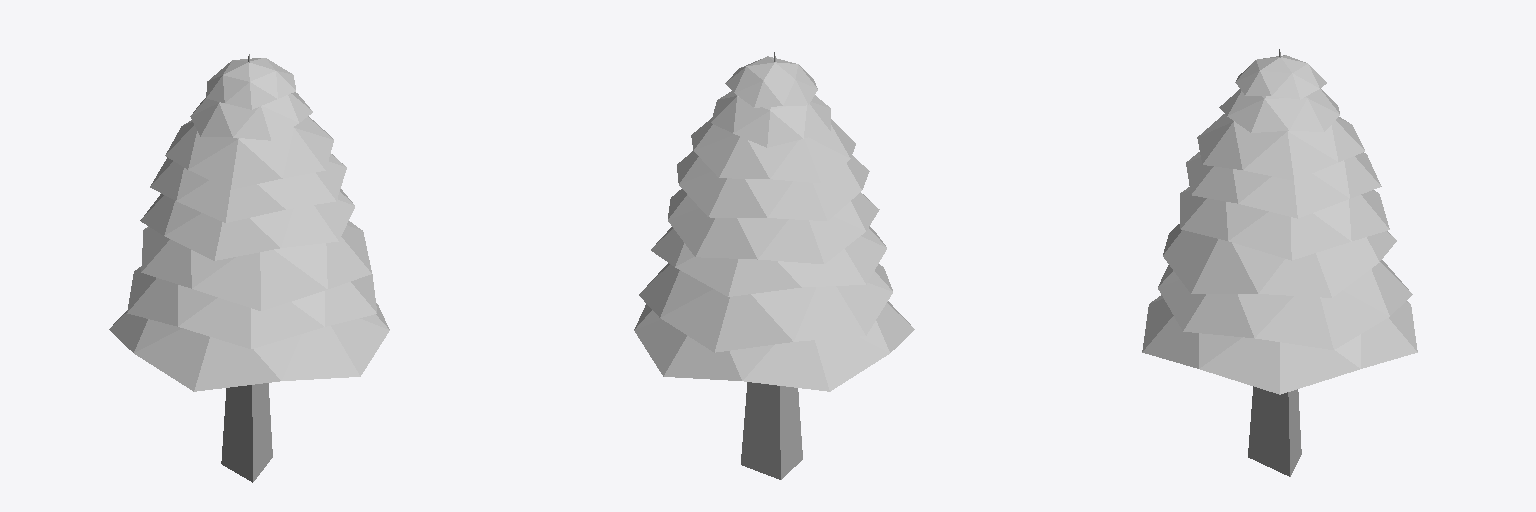
File: ChristmasTree 2.obj
The picture shows the model from 3 angles: view 1: azimuth 30°, elevation 25°; view 2: azimuth 150°, elevation 25°; view 3: azimuth 270°, elevation 25°; orthographic projection.
Visible parts, largest first — view 1: Icosphere_Material.001, Icosphere.002_Material.001, Icosphere.001_Material.001, Icosphere.003_Material.001, Icosphere.005_Material.001, Icosphere.004_Material.001, Cone_Material.002, Icosphere.006_Material.001, Icosphere.007_Material.001; view 2: Icosphere.001_Material.001, Icosphere_Material.001, Icosphere.003_Material.001, Icosphere.004_Material.001, Icosphere.002_Material.001, Icosphere.005_Material.001, Cone_Material.002, Icosphere.006_Material.001, Icosphere.007_Material.001; view 3: Icosphere_Material.001, Icosphere.001_Material.001, Icosphere.002_Material.001, Icosphere.003_Material.001, Icosphere.004_Material.001, Icosphere.005_Material.001, Cone_Material.002, Icosphere.006_Material.001, Icosphere.007_Material.001.
Boxes of the visible parts, box(x1,y1,x2,y2) form: Icosphere_Material.001: box(109, 303, 389, 391); Icosphere.002_Material.001: box(141, 221, 371, 310); Icosphere.001_Material.001: box(127, 267, 376, 348); Icosphere.003_Material.001: box(140, 189, 354, 260); Icosphere.005_Material.001: box(165, 116, 333, 189); Icosphere.004_Material.001: box(150, 154, 346, 222); Cone_Material.002: box(221, 54, 272, 482); Icosphere.006_Material.001: box(190, 92, 312, 140); Icosphere.007_Material.001: box(206, 58, 295, 109); Icosphere.001_Material.001: box(639, 263, 892, 352); Icosphere_Material.001: box(634, 301, 914, 391); Icosphere.003_Material.001: box(668, 189, 879, 263); Icosphere.004_Material.001: box(677, 151, 869, 220); Icosphere.002_Material.001: box(651, 226, 886, 296); Icosphere.005_Material.001: box(691, 118, 855, 182); Cone_Material.002: box(741, 52, 802, 479); Icosphere.006_Material.001: box(711, 91, 830, 147); Icosphere.007_Material.001: box(725, 56, 817, 107); Icosphere_Material.001: box(1142, 295, 1417, 394); Icosphere.001_Material.001: box(1158, 260, 1412, 349); Icosphere.002_Material.001: box(1163, 224, 1396, 297); Icosphere.003_Material.001: box(1180, 187, 1389, 260); Icosphere.004_Material.001: box(1186, 152, 1381, 218); Icosphere.005_Material.001: box(1197, 114, 1364, 180); Cone_Material.002: box(1248, 49, 1301, 476); Icosphere.006_Material.001: box(1219, 88, 1339, 132); Icosphere.007_Material.001: box(1235, 55, 1326, 99).
Size of the model in its own units: 1.75 by 2.87 by 1.7.